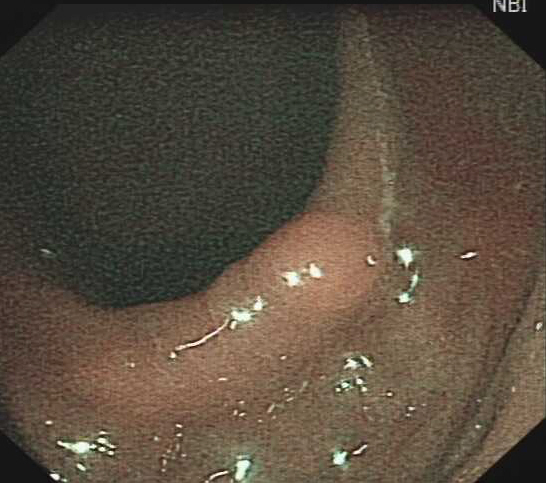others: (243, 209, 387, 319)
